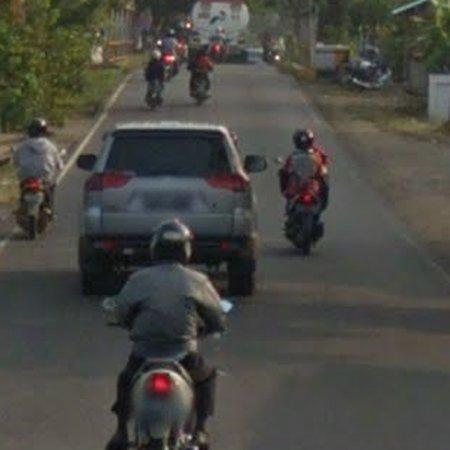motorcycles: (128, 360, 196, 450), (285, 188, 325, 256)
